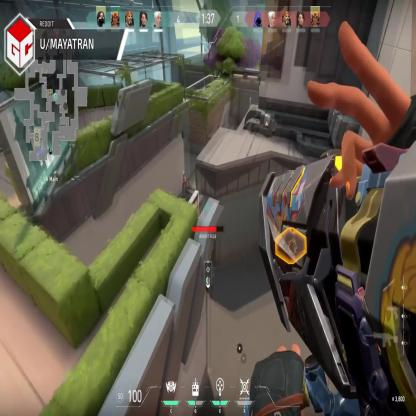enemy: (181, 170, 187, 196)
enemy_head: (182, 171, 184, 176)
